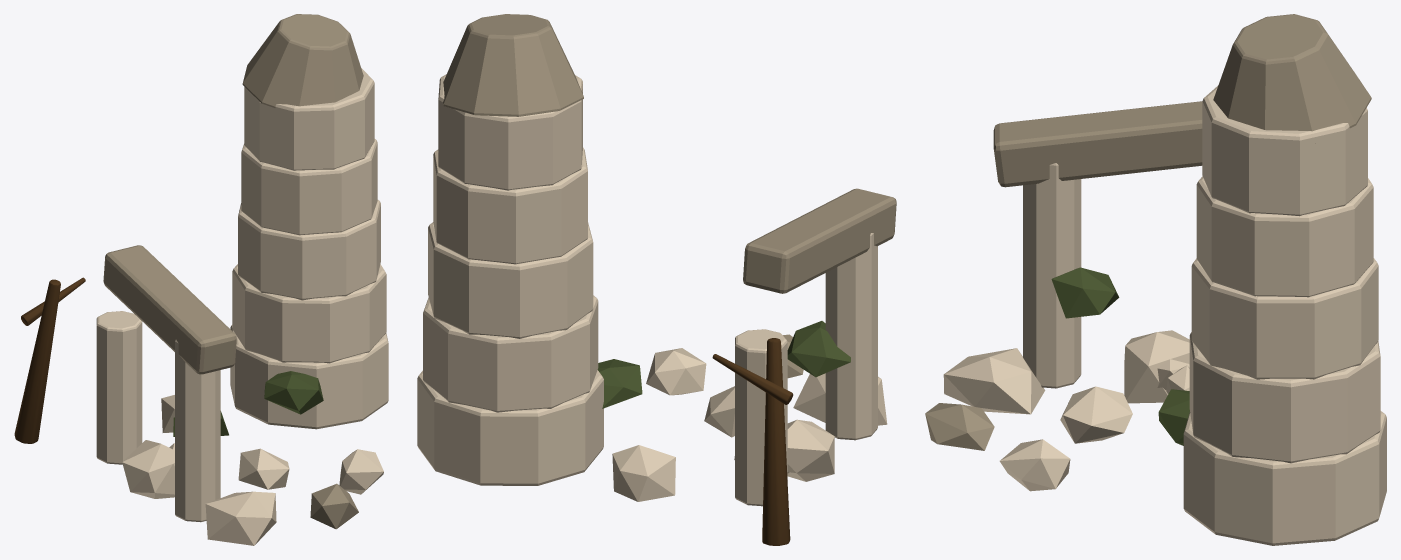
File: landmark_watchpost.glb
3 views of the same model, side by side, from view 1: azimuth 30°, elevation 25°; view 2: azimuth 150°, elevation 25°; view 3: azimuth 270°, elevation 25° (orthographic). The views are drawn at different scales.
Parts seen in each view (by area): view 1: tower_c1, tower_c2, tower_c3, tower_c0, tower_c4, tower_broken, gate_lintel, gate_col2, gate_col1, rubble0, deadtree, rubble6 (+6 smaller); view 2: tower_c0, tower_c1, tower_c2, tower_c3, tower_broken, tower_c4, gate_lintel, gate_col1, gate_col2, deadtree, rubble4, rubble6 (+6 smaller); view 3: tower_c0, tower_c1, tower_c2, tower_c3, tower_c4, tower_broken, gate_lintel, gate_col1, rubble0, rubble6, rubble7, rubble3 (+3 smaller).
Boxes of the visible parts, box(x1,y1,x2,y2) form: tower_c1: box(232, 264, 386, 363); tower_c2: box(238, 200, 380, 300); tower_c3: box(241, 139, 377, 235); tower_c0: box(230, 325, 388, 429); tower_c4: box(244, 68, 374, 170); tower_broken: box(242, 14, 363, 107); gate_lintel: box(103, 245, 236, 374); gate_col2: box(96, 311, 142, 464); gate_col1: box(175, 340, 220, 522); rubble0: box(205, 491, 276, 545); deadtree: box(14, 279, 60, 443); rubble6: box(122, 440, 174, 498); tower_c0: box(417, 370, 603, 485); tower_c1: box(423, 295, 598, 412); tower_c2: box(428, 222, 593, 338); tower_c3: box(433, 147, 587, 264); tower_broken: box(443, 14, 583, 116); tower_c4: box(438, 74, 582, 190); gate_lintel: box(743, 188, 896, 293); gate_col1: box(825, 233, 877, 440); gate_col2: box(735, 329, 787, 506); deadtree: box(762, 338, 790, 545); rubble4: box(612, 445, 675, 501); rubble6: box(787, 419, 834, 481); tower_c0: box(1183, 411, 1386, 545); tower_c1: box(1189, 332, 1380, 463); tower_c2: box(1191, 258, 1378, 379); tower_c3: box(1196, 176, 1373, 297); tower_c4: box(1202, 85, 1367, 216); tower_broken: box(1213, 14, 1371, 143); gate_lintel: box(993, 101, 1202, 187); gate_col1: box(1023, 163, 1081, 388); rubble0: box(943, 348, 1045, 414); rubble6: box(1124, 330, 1189, 403); rubble7: box(1060, 386, 1132, 443); rubble3: box(925, 403, 994, 450).
Bounding box in the file's own units: 2.98 × 3.27 × 2.76.
